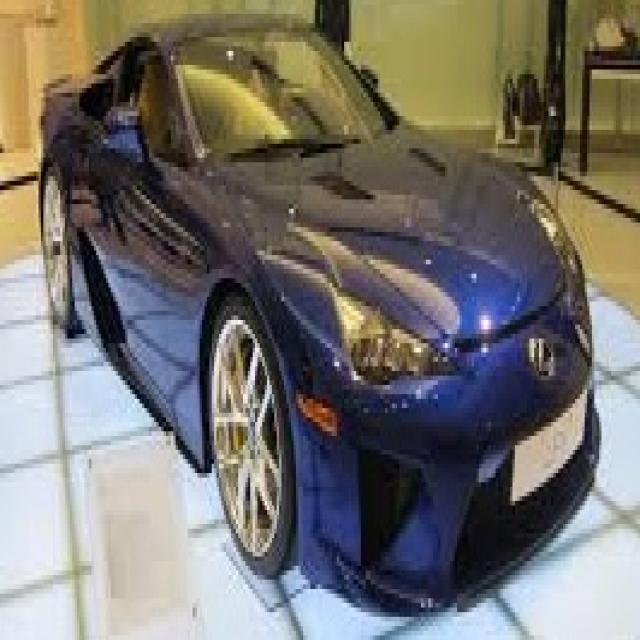blue: (40, 4, 600, 595)
